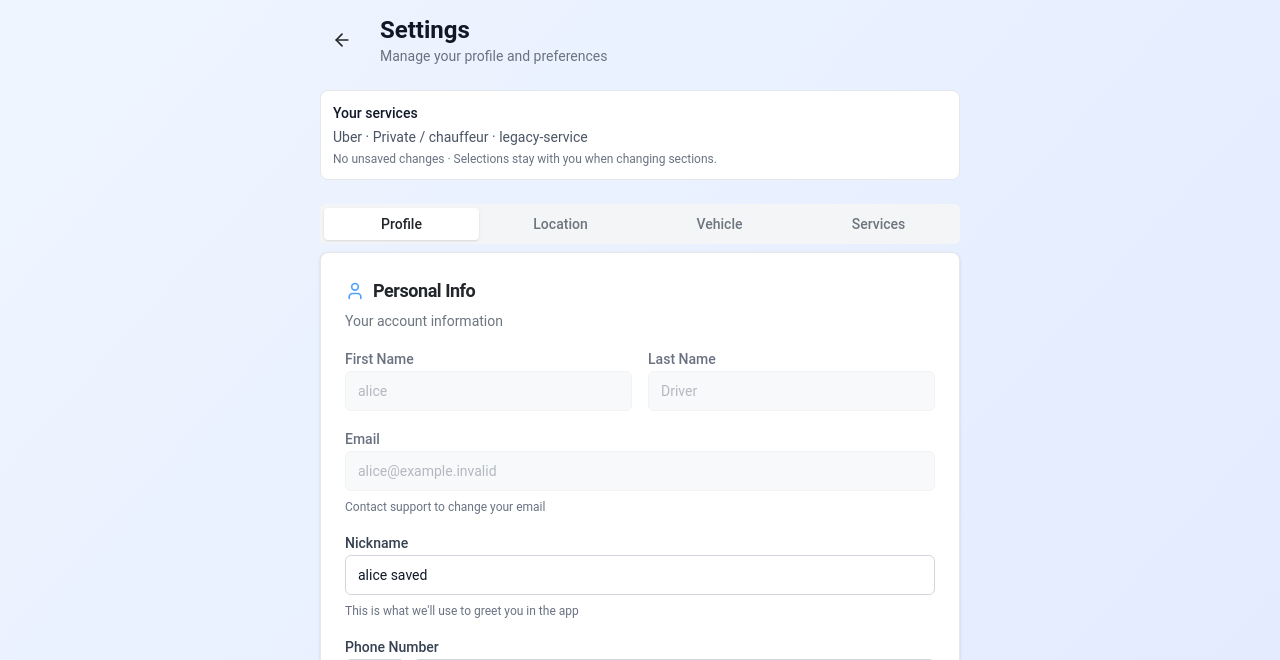
Scenario: real AuthProvider saves with its current token and adopts canonical profile/vehicle values
The width and height of the screenshot is (1280, 660).
Replace the text in the field labelled "Nickname" with "Submitted nickname" at x=640, y=575, box x1=345 y1=555 x2=935 y2=595
(page scrolled)
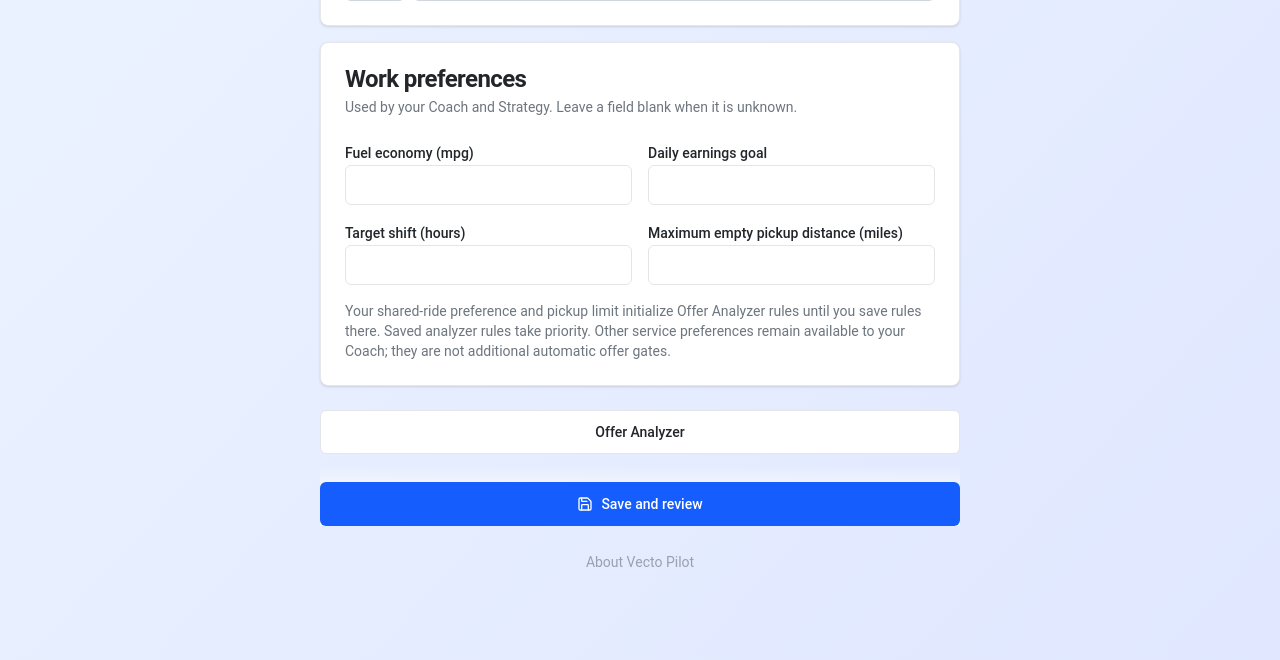
Click the button "Save and review" at x=640, y=504, box x1=320 y1=482 x2=960 y2=526
(page scrolled)
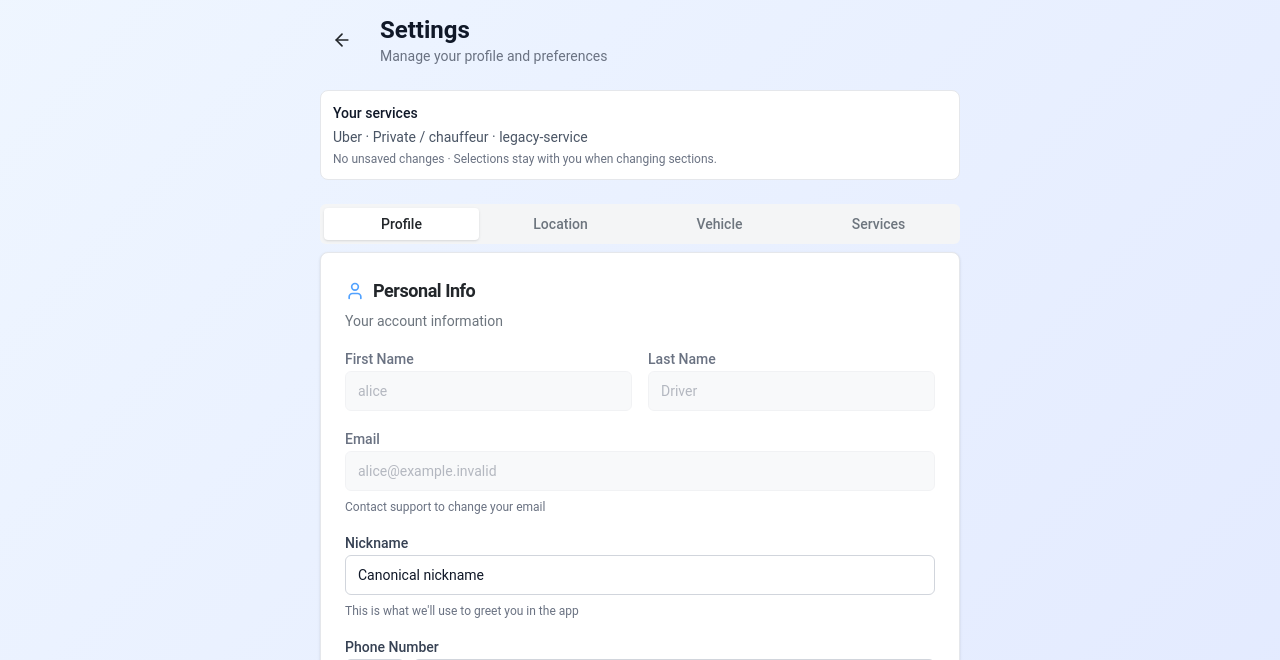
Expected: the field labelled "Nickname" holds "Canonical nickname", x1=345 y1=555 x2=935 y2=595
Expected: the text "No unsaved changes" is shown, x1=333 y1=152 x2=444 y2=166
